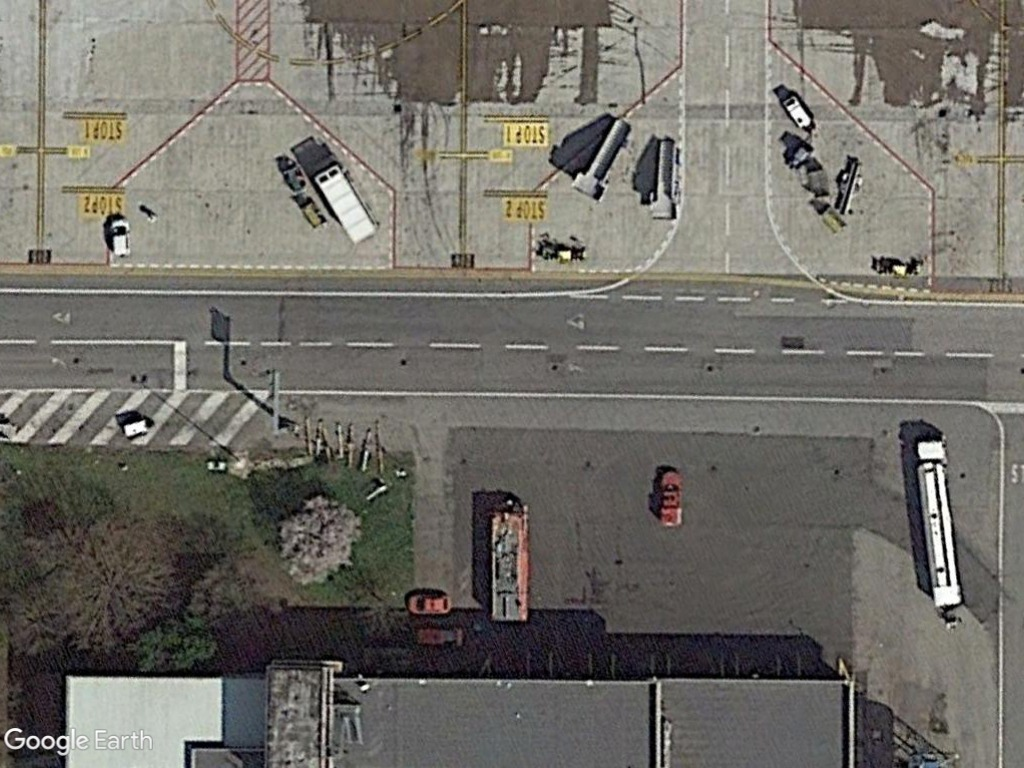car: (403, 589, 455, 619)
longvehicle: (911, 435, 965, 611), (308, 157, 379, 248)
other: (487, 494, 534, 625), (654, 463, 686, 532)
stairtruck: (565, 110, 633, 209), (641, 135, 684, 226)
van: (105, 215, 134, 261)
